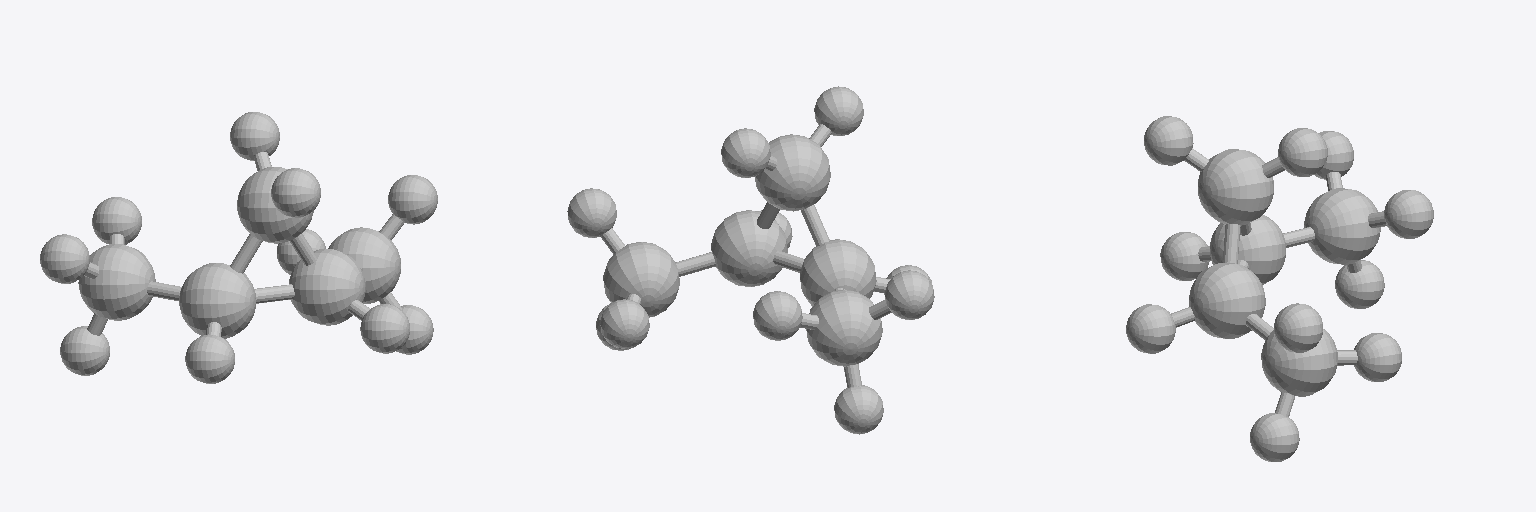
The model's file is cis-dimetil-ciclo-propano.obj.
The picture shows the model from 3 angles: view 1: azimuth 30°, elevation 25°; view 2: azimuth 150°, elevation 25°; view 3: azimuth 270°, elevation 25°; orthographic projection.
Parts seen in each view (by area): view 1: Shape_Sphere.001_Shape_Sphere.062, Shape_Sphere.002_Shape_Sphere.063, Shape_Sphere.010_Shape_Sphere.071, Shape_Sphere_Shape_Sphere.061, Shape_Sphere.005_Shape_Sphere.066, Shape_Sphere.003_Shape_Sphere.064, Shape_Sphere.012_Shape_Sphere.073, Shape_Sphere.009_Shape_Sphere.070, Shape_Sphere.014_Shape_Sphere.075, Shape_Sphere.006_Shape_Sphere.067, Shape_Sphere.013_Shape_Sphere.074, Shape_Sphere.004_Shape_Sphere.065 (+3 smaller); view 2: Shape_Sphere.010_Shape_Sphere.071, Shape_Sphere.002_Shape_Sphere.063, Shape_Sphere_Shape_Sphere.061, Shape_Sphere.005_Shape_Sphere.066, Shape_Sphere.001_Shape_Sphere.062, Shape_Sphere.011_Shape_Sphere.072, Shape_Sphere.004_Shape_Sphere.065, Shape_Sphere.007_Shape_Sphere.068, Shape_Sphere.012_Shape_Sphere.073, Shape_Sphere.006_Shape_Sphere.067, Shape_Sphere.013_Shape_Sphere.074, Shape_Sphere.003_Shape_Sphere.064; view 3: Shape_Sphere_Shape_Sphere.061, Shape_Sphere.002_Shape_Sphere.063, Shape_Sphere.010_Shape_Sphere.071, Shape_Sphere.005_Shape_Sphere.066, Shape_Sphere.001_Shape_Sphere.062, Shape_Sphere.009_Shape_Sphere.070, Shape_Sphere.011_Shape_Sphere.072, Shape_Sphere.004_Shape_Sphere.065, Shape_Sphere.006_Shape_Sphere.067, Shape_Sphere.003_Shape_Sphere.064, Shape_Sphere.008_Shape_Sphere.069, Shape_Sphere.007_Shape_Sphere.068 (+3 smaller).
Boxes of the visible parts, x1=… form: Shape_Sphere.001_Shape_Sphere.062: x1=179, y1=263, x2=255, y2=338; Shape_Sphere.002_Shape_Sphere.063: x1=289, y1=249, x2=365, y2=325; Shape_Sphere.010_Shape_Sphere.071: x1=78, y1=244, x2=155, y2=320; Shape_Sphere_Shape_Sphere.061: x1=237, y1=167, x2=313, y2=243; Shape_Sphere.005_Shape_Sphere.066: x1=328, y1=227, x2=400, y2=303; Shape_Sphere.003_Shape_Sphere.064: x1=271, y1=168, x2=320, y2=217; Shape_Sphere.012_Shape_Sphere.073: x1=40, y1=234, x2=89, y2=283; Shape_Sphere.009_Shape_Sphere.070: x1=360, y1=304, x2=409, y2=353; Shape_Sphere.014_Shape_Sphere.075: x1=185, y1=334, x2=234, y2=383; Shape_Sphere.006_Shape_Sphere.067: x1=388, y1=175, x2=437, y2=224; Shape_Sphere.013_Shape_Sphere.074: x1=60, y1=326, x2=109, y2=375; Shape_Sphere.004_Shape_Sphere.065: x1=230, y1=112, x2=279, y2=160; Shape_Sphere.010_Shape_Sphere.071: x1=806, y1=289, x2=882, y2=366; Shape_Sphere.002_Shape_Sphere.063: x1=711, y1=210, x2=787, y2=286; Shape_Sphere_Shape_Sphere.061: x1=755, y1=134, x2=830, y2=211; Shape_Sphere.005_Shape_Sphere.066: x1=603, y1=242, x2=679, y2=317; Shape_Sphere.001_Shape_Sphere.062: x1=800, y1=239, x2=876, y2=306; Shape_Sphere.011_Shape_Sphere.072: x1=753, y1=291, x2=802, y2=340; Shape_Sphere.004_Shape_Sphere.065: x1=721, y1=128, x2=770, y2=177; Shape_Sphere.007_Shape_Sphere.068: x1=600, y1=299, x2=649, y2=348; Shape_Sphere.012_Shape_Sphere.073: x1=885, y1=270, x2=934, y2=319; Shape_Sphere.006_Shape_Sphere.067: x1=567, y1=188, x2=616, y2=237; Shape_Sphere.013_Shape_Sphere.074: x1=834, y1=385, x2=883, y2=434; Shape_Sphere.003_Shape_Sphere.064: x1=814, y1=86, x2=863, y2=135; Shape_Sphere_Shape_Sphere.061: x1=1198, y1=149, x2=1273, y2=225; Shape_Sphere.002_Shape_Sphere.063: x1=1189, y1=263, x2=1265, y2=338; Shape_Sphere.010_Shape_Sphere.071: x1=1304, y1=188, x2=1380, y2=264; Shape_Sphere.005_Shape_Sphere.066: x1=1261, y1=329, x2=1337, y2=396; Shape_Sphere.001_Shape_Sphere.062: x1=1210, y1=215, x2=1285, y2=284; Shape_Sphere.009_Shape_Sphere.070: x1=1126, y1=304, x2=1175, y2=353; Shape_Sphere.011_Shape_Sphere.072: x1=1384, y1=190, x2=1433, y2=238; Shape_Sphere.004_Shape_Sphere.065: x1=1278, y1=128, x2=1327, y2=176; Shape_Sphere.006_Shape_Sphere.067: x1=1274, y1=303, x2=1322, y2=352; Shape_Sphere.003_Shape_Sphere.064: x1=1144, y1=116, x2=1193, y2=165; Shape_Sphere.008_Shape_Sphere.069: x1=1250, y1=413, x2=1299, y2=461; Shape_Sphere.007_Shape_Sphere.068: x1=1354, y1=333, x2=1401, y2=381.
Size of the model in its own units: 5.72 by 3.82 by 4.06.